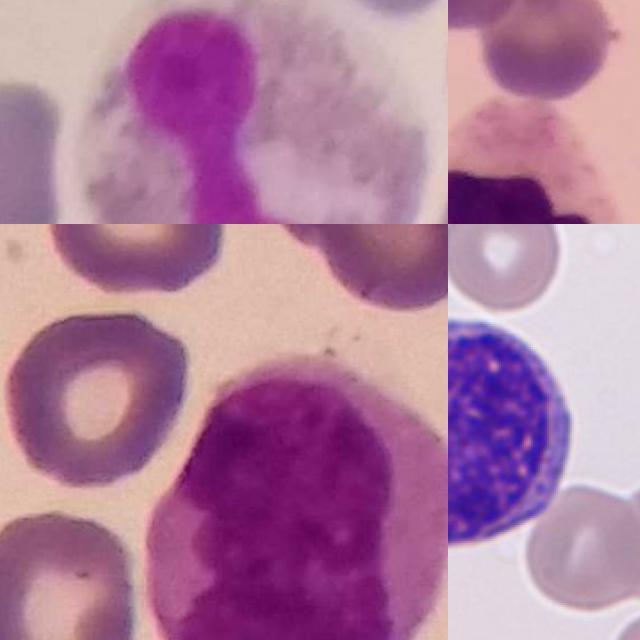Eosinophil: (81, 0, 426, 224)
Lymphocyte: (448, 306, 586, 560)
Monocyte: (144, 350, 448, 640)
Neutrophil: (448, 96, 640, 224)
RBC: (518, 480, 640, 615), (448, 224, 565, 315), (611, 469, 640, 601)
